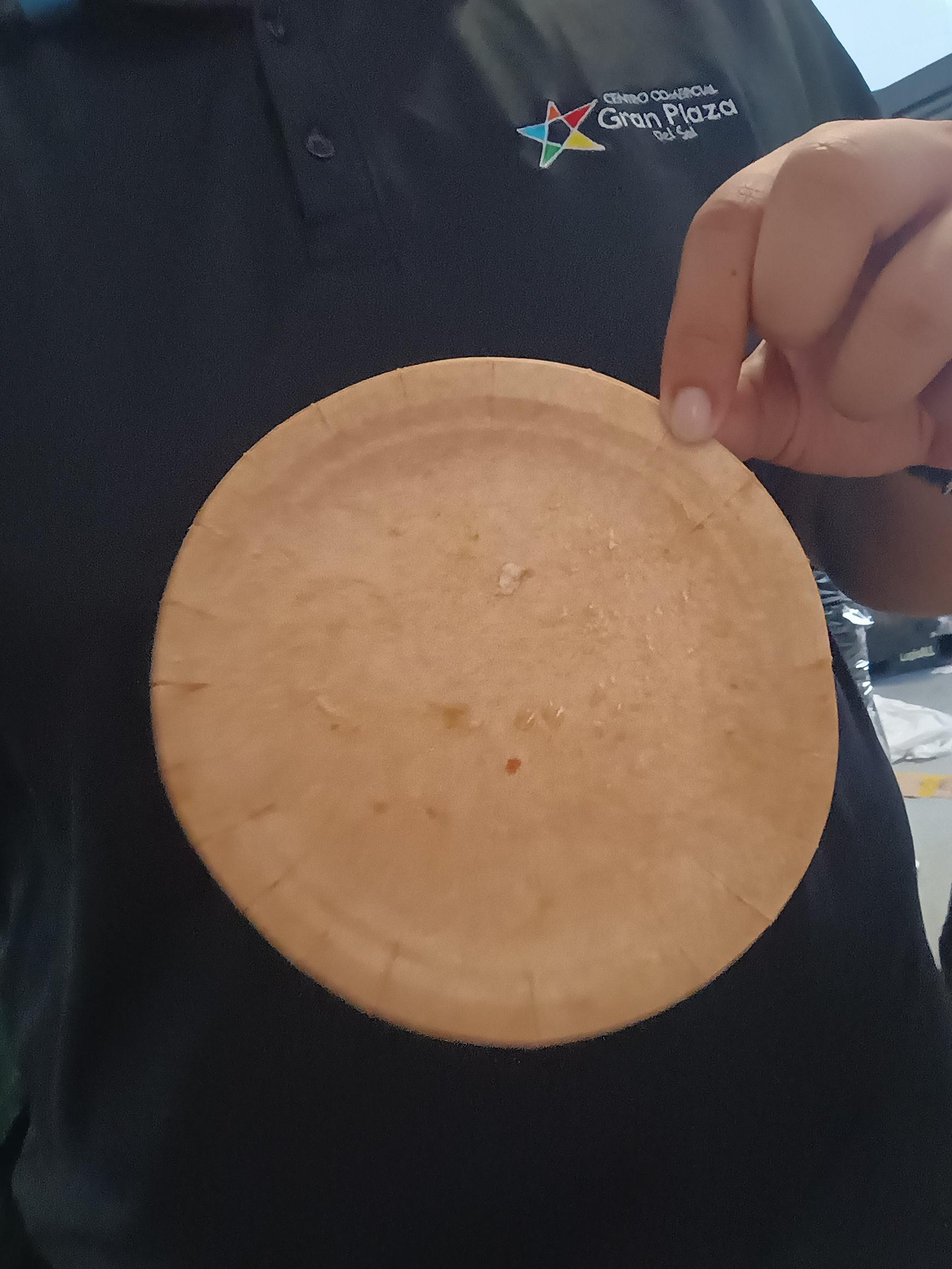Ordinario: (150, 359, 841, 1051)
